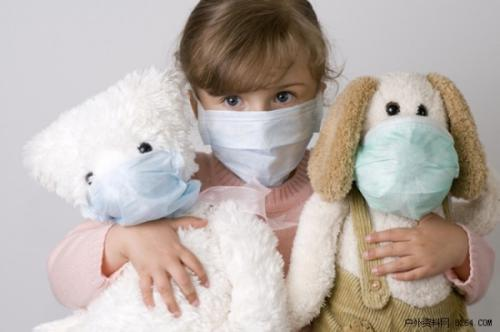yes_mask: (175, 4, 330, 190), (44, 61, 204, 225), (332, 64, 493, 219)
